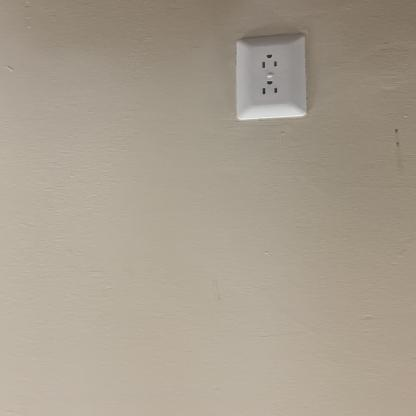OUTLET: (234, 32, 308, 122)
